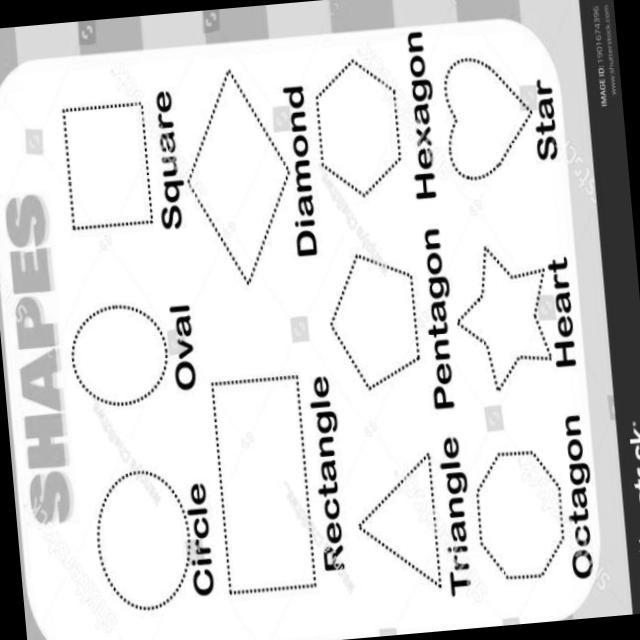circle: (83, 457, 199, 619), (49, 290, 175, 417)
square: (46, 90, 158, 235)
triangle: (346, 439, 456, 610)
